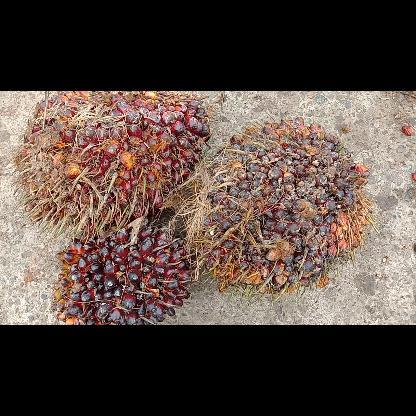Kurang masak: (198, 115, 372, 295), (50, 222, 192, 324)
TBS masak: (18, 91, 210, 235)
